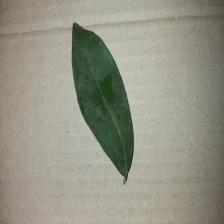healthy: (70, 19, 134, 179)
